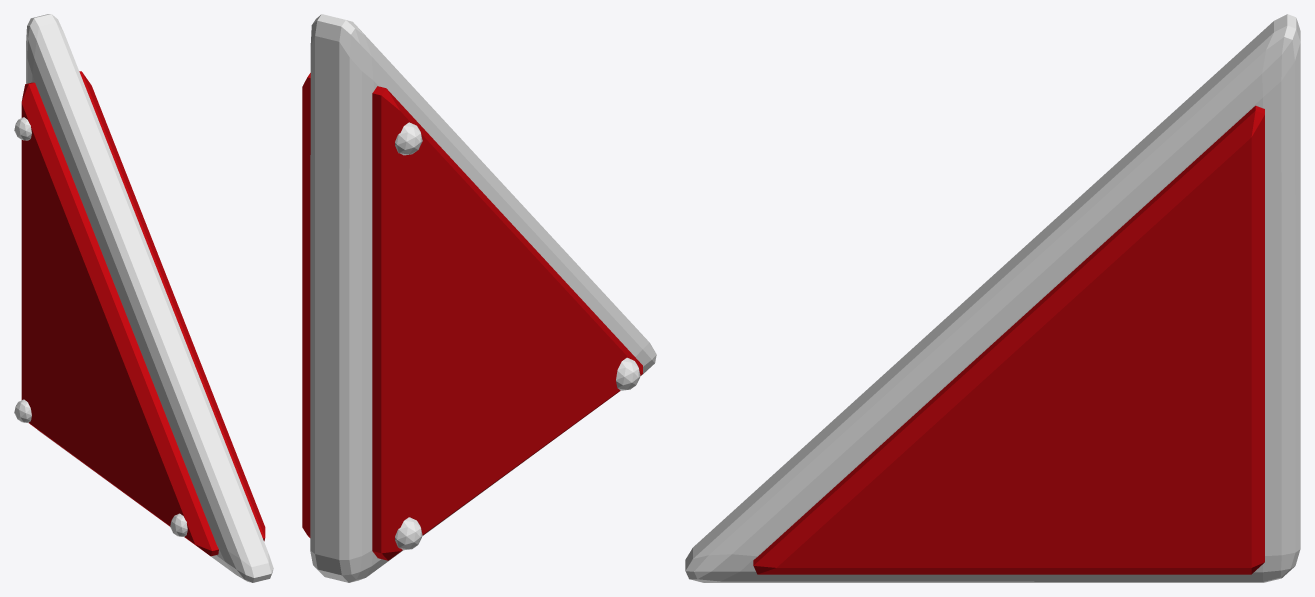
File: bumpercorner.fbx
3 views of the same model, side by side, from view 1: azimuth 30°, elevation 25°; view 2: azimuth 150°, elevation 25°; view 3: azimuth 270°, elevation 25° (orthographic). The views are drawn at different scales.
Visible parts, largest first — view 1: Plane; view 2: Plane; view 3: Plane.
Part boxes in pixels (x1=…): Plane: x1=14, y1=14, x2=273, y2=582; Plane: x1=302, y1=14, x2=656, y2=582; Plane: x1=685, y1=14, x2=1300, y2=582.
Size of the model in its own units: 73.81 by 358 by 358.
